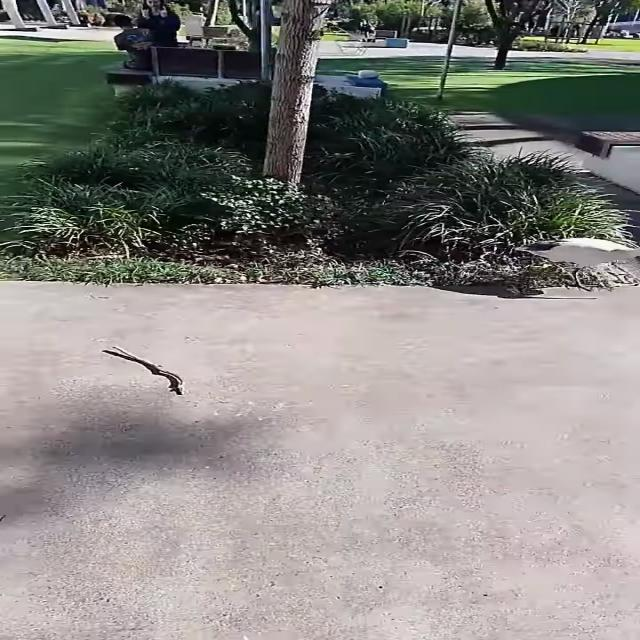Birds-Ibis: (508, 228, 640, 296)
